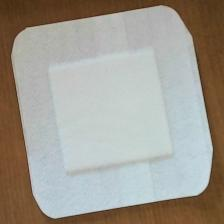Dressing: (11, 4, 218, 223)
